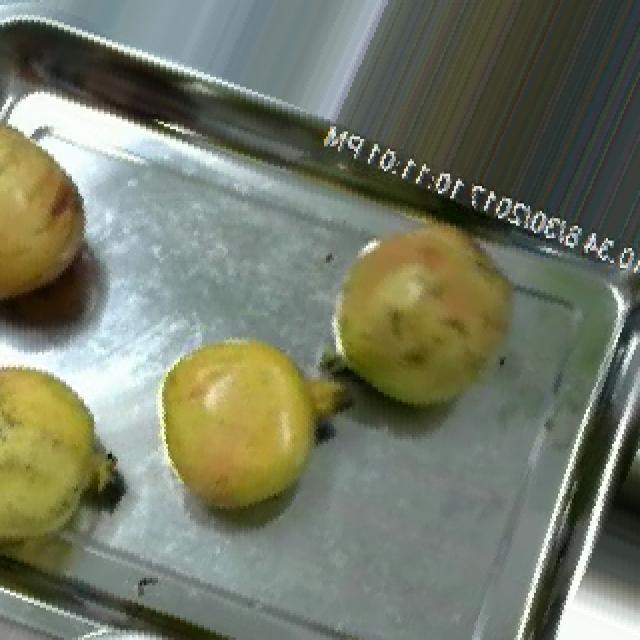fruit: (300, 196, 542, 437), (128, 315, 344, 536), (0, 340, 138, 565), (0, 97, 104, 322)
